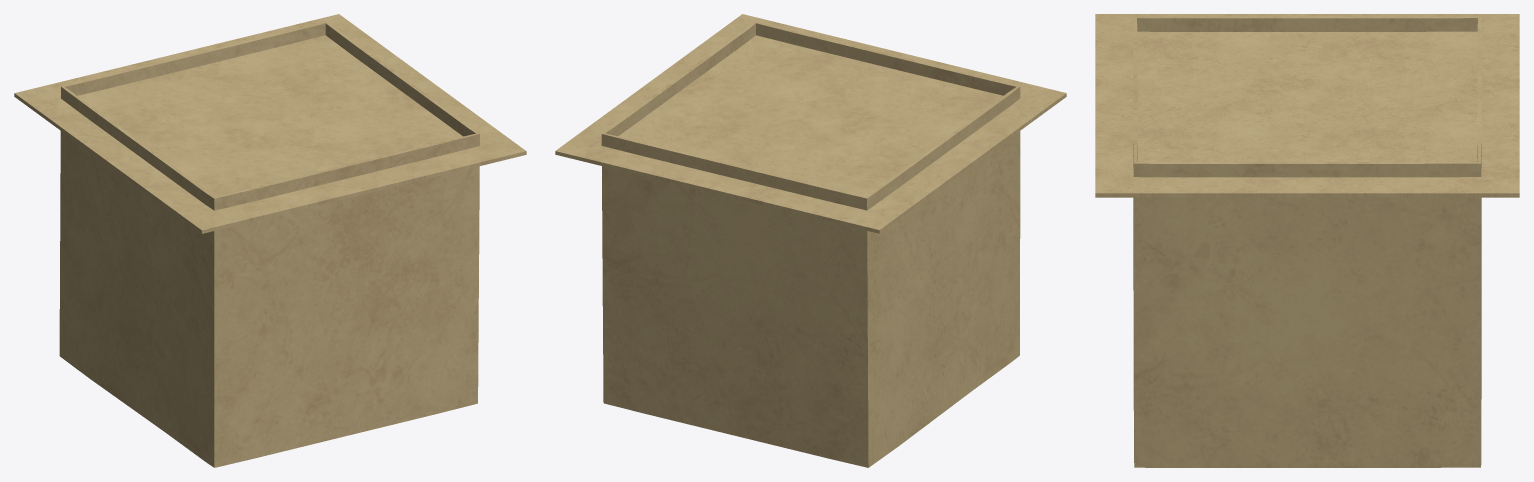
File: ROOM1_Graph.fbx
The picture shows the model from 3 angles, left to right: view 1: azimuth 30°, elevation 25°; view 2: azimuth 150°, elevation 25°; view 3: azimuth 270°, elevation 25°; orthographic projection. The views are drawn at different scales.
Parts seen in each view (by area): view 1: main; view 2: main; view 3: main.
Part boxes in pixels (left/top/right/bottom): main: left=14, top=14, right=526, bottom=467; main: left=555, top=14, right=1066, bottom=467; main: left=1095, top=14, right=1519, bottom=467.
Size of the model in its own units: 4662 by 3706 by 4662.
Materials: 1 (1 with a texture image).
